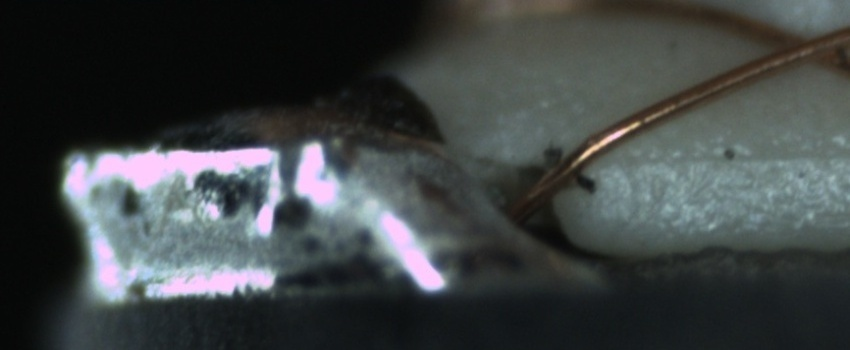CL: (756, 14, 845, 76)
DL: (613, 124, 846, 189)
